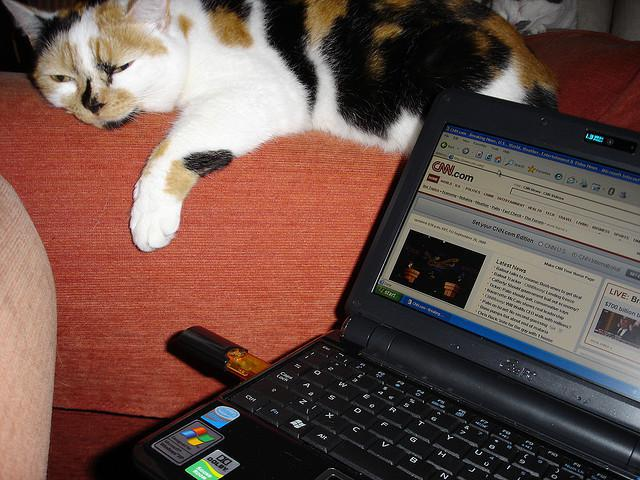tv: (327, 60, 639, 444)
